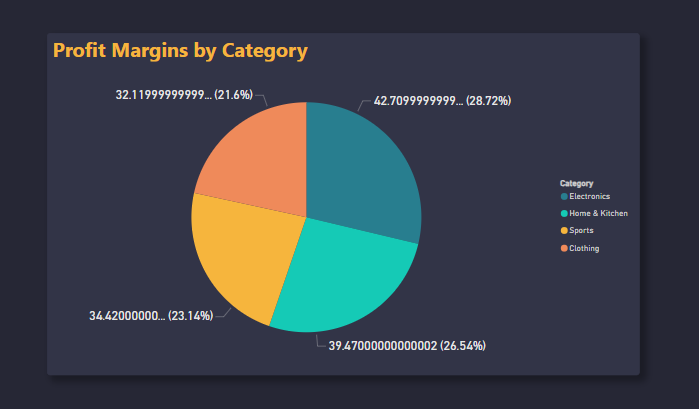

The dashboard page shown, as its layout file describes it:
{"tool":"powerbi","page":{"name":"Profit Margins by Category","canvas":[1280,720],"ordinal":3},"visuals":[{"type":"pieChart","title":"Profit Margins by Category","fields":{"Category":["Sheet1.Category"],"Y":["Sum(Sheet1.Profit_Margin)"]},"box":[160.2,114.6,871.3,502.5],"z":0}]}

Visuals, with their boxes on the page's 1280x720 design canvas (x1, y1, x2, y2). These are canvas units, not pixel positions in the 699x409 screenshot, which may show the page scaled, cropped or inside an application window:
"Profit Margins by Category" pieChart: (left=160, top=115, right=1032, bottom=617)
